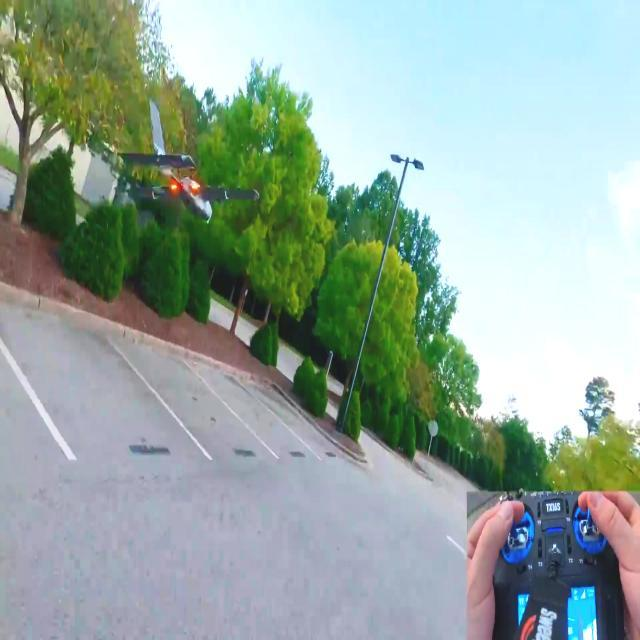iha: (110, 130, 262, 192)
